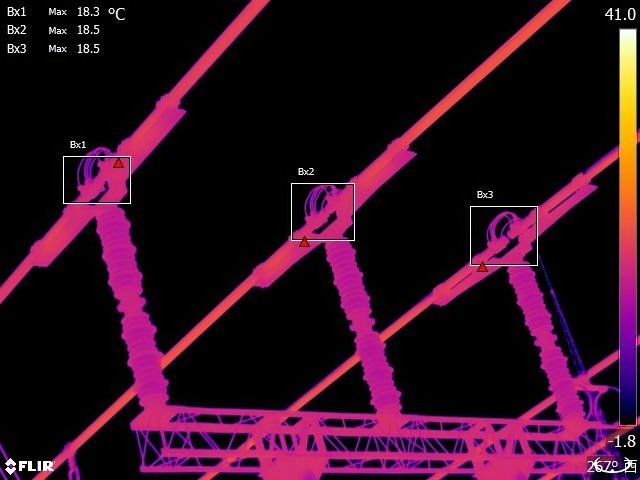post insulator: (94, 197, 173, 407), (324, 226, 408, 415), (511, 254, 586, 420)
